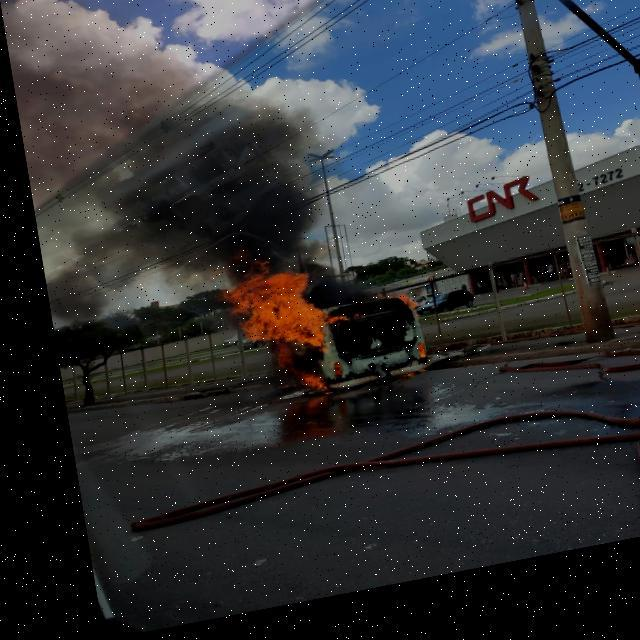Fire: (204, 259, 341, 378), (283, 378, 311, 402), (386, 306, 406, 326), (404, 358, 414, 372)
